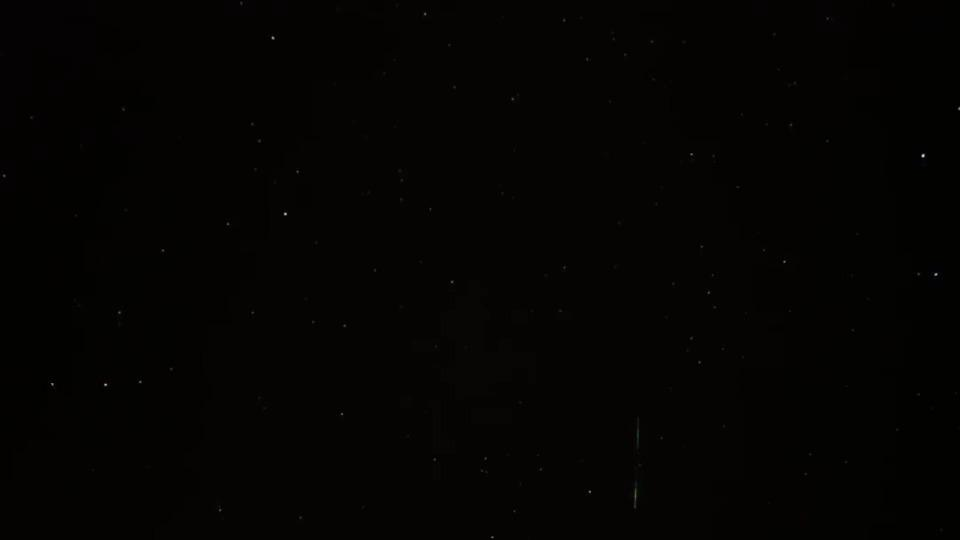meteorite: (603, 410, 676, 510)
